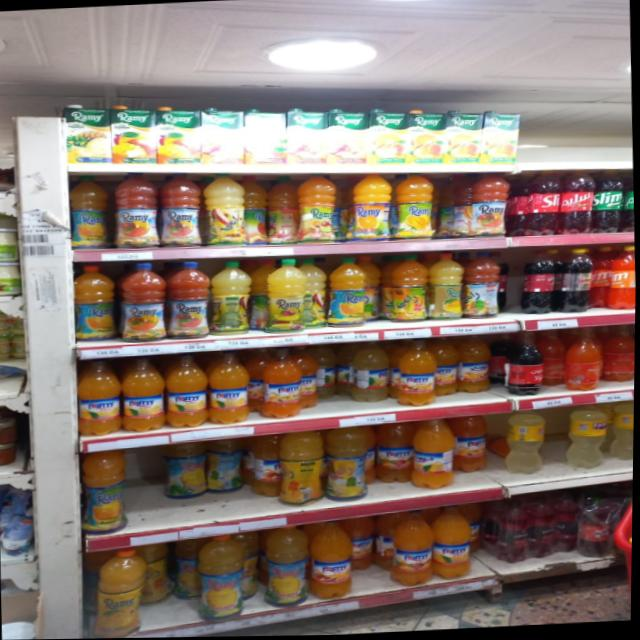fanta_plastique: (506, 413, 546, 477), (566, 407, 606, 471), (612, 404, 635, 461)
hamoud_plastique: (519, 248, 559, 316), (524, 173, 565, 238), (558, 170, 598, 236), (556, 249, 595, 316), (591, 171, 628, 236), (605, 247, 637, 312), (587, 248, 619, 312)
ramy_carton: (106, 103, 159, 169), (187, 106, 241, 169), (64, 103, 115, 165), (155, 104, 205, 167), (323, 109, 374, 169), (241, 108, 289, 168), (437, 110, 486, 168), (281, 108, 327, 168), (401, 110, 447, 168), (369, 109, 410, 169), (480, 112, 523, 167)
ramy_plastique: (93, 547, 149, 639), (195, 533, 248, 622), (80, 450, 131, 535), (109, 171, 162, 250), (119, 262, 170, 344), (276, 430, 328, 510), (264, 525, 314, 608), (307, 520, 356, 601), (119, 354, 168, 433), (325, 427, 375, 504), (76, 357, 124, 437), (165, 261, 213, 340), (208, 260, 255, 337), (163, 353, 210, 430), (158, 171, 204, 249), (73, 264, 119, 342), (265, 258, 312, 334), (392, 509, 438, 586), (202, 173, 248, 248), (410, 419, 457, 491), (261, 345, 306, 420), (205, 349, 250, 424), (68, 175, 111, 251), (431, 507, 475, 581), (350, 171, 394, 243), (386, 255, 431, 324), (393, 171, 436, 242), (327, 258, 370, 329), (297, 174, 339, 245), (376, 420, 420, 486), (461, 252, 503, 321), (396, 341, 439, 408), (471, 173, 513, 239), (162, 441, 208, 501), (426, 254, 465, 324), (349, 342, 390, 404), (447, 415, 489, 475), (247, 434, 285, 499), (173, 537, 211, 601), (207, 438, 248, 497), (266, 177, 301, 246), (445, 173, 481, 240), (135, 542, 173, 604), (239, 176, 271, 248), (339, 514, 378, 573), (457, 335, 494, 395), (428, 337, 462, 397), (377, 256, 404, 323), (386, 340, 413, 402)
